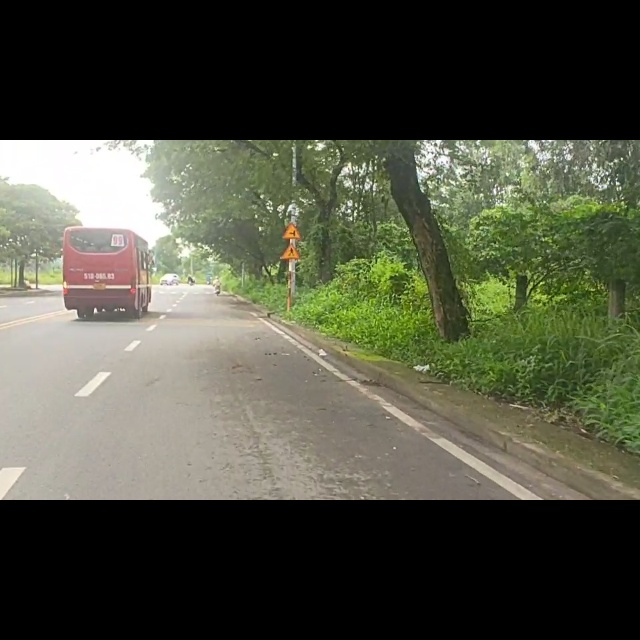bien_nguy_hiem: (279, 179, 305, 219), (279, 147, 305, 184)
